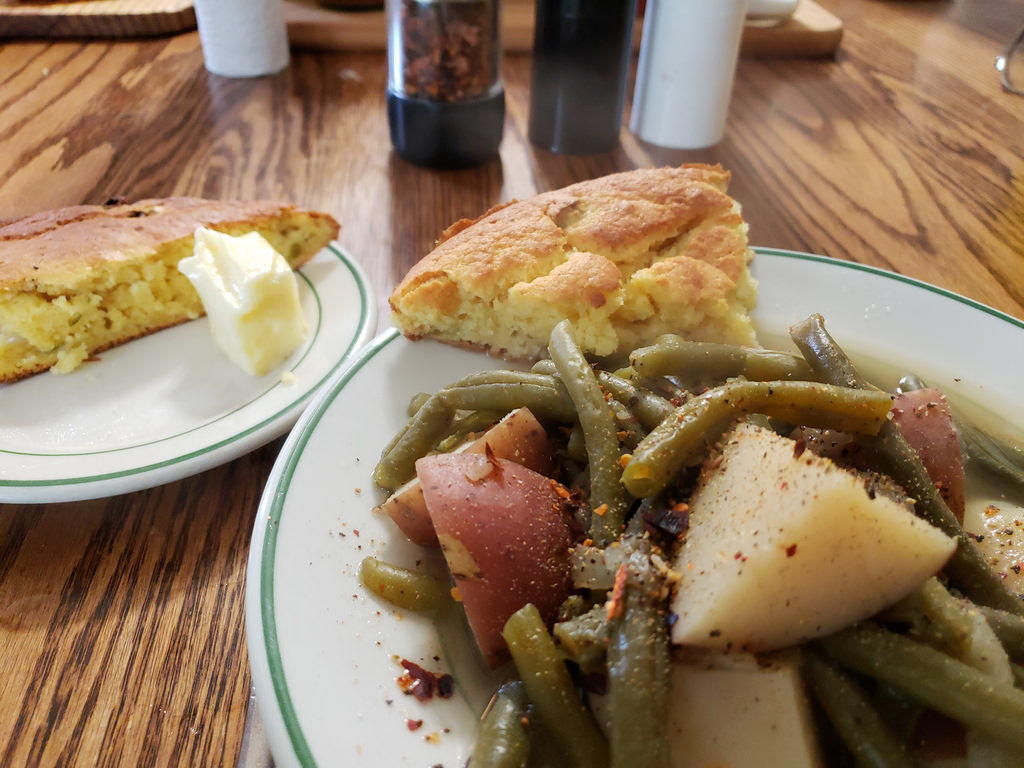boiled potatoes: (673, 412, 951, 629)
slice of bread: (411, 154, 775, 381), (2, 187, 355, 344)
